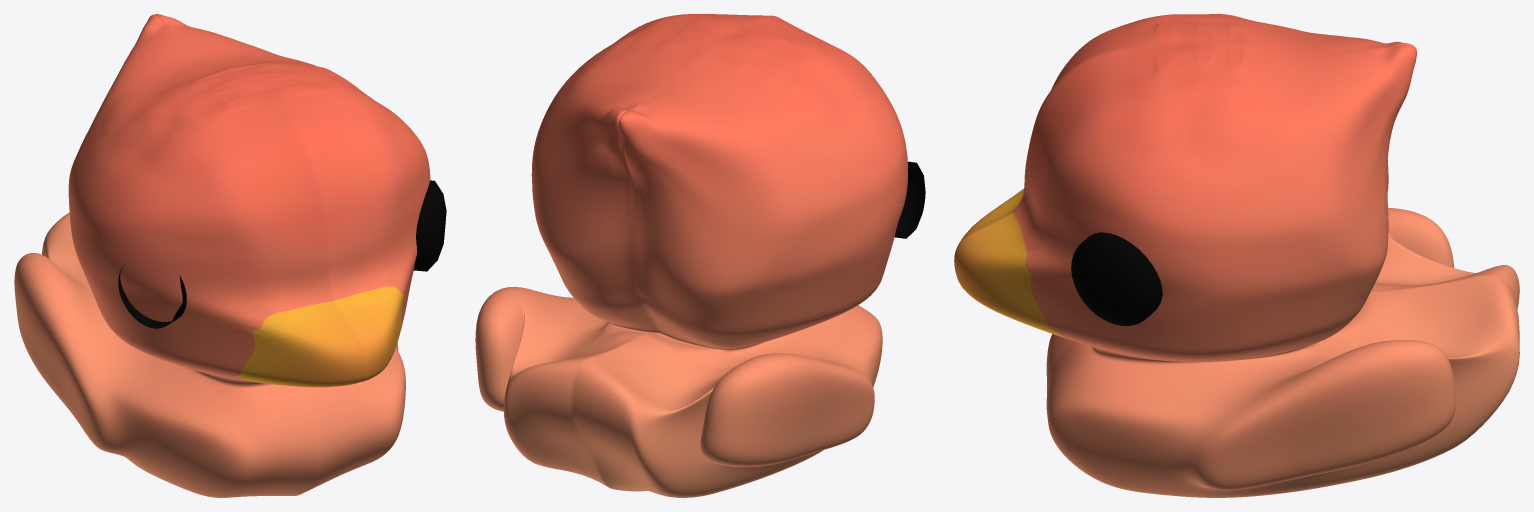
File: PinkDucky.fbx
3 views of the same model, side by side, from view 1: azimuth 30°, elevation 25°; view 2: azimuth 150°, elevation 25°; view 3: azimuth 270°, elevation 25° (orthographic). The views are drawn at different scales.
Parts seen in each view (by area): view 1: Pink Ducky; view 2: Pink Ducky; view 3: Pink Ducky.
Part boxes in pixels (x1,y1,x2,y2): Pink Ducky: (14, 14, 446, 497); Pink Ducky: (475, 14, 925, 497); Pink Ducky: (954, 14, 1519, 497).
Size of the model in its own units: 91.77 by 106 by 127.
